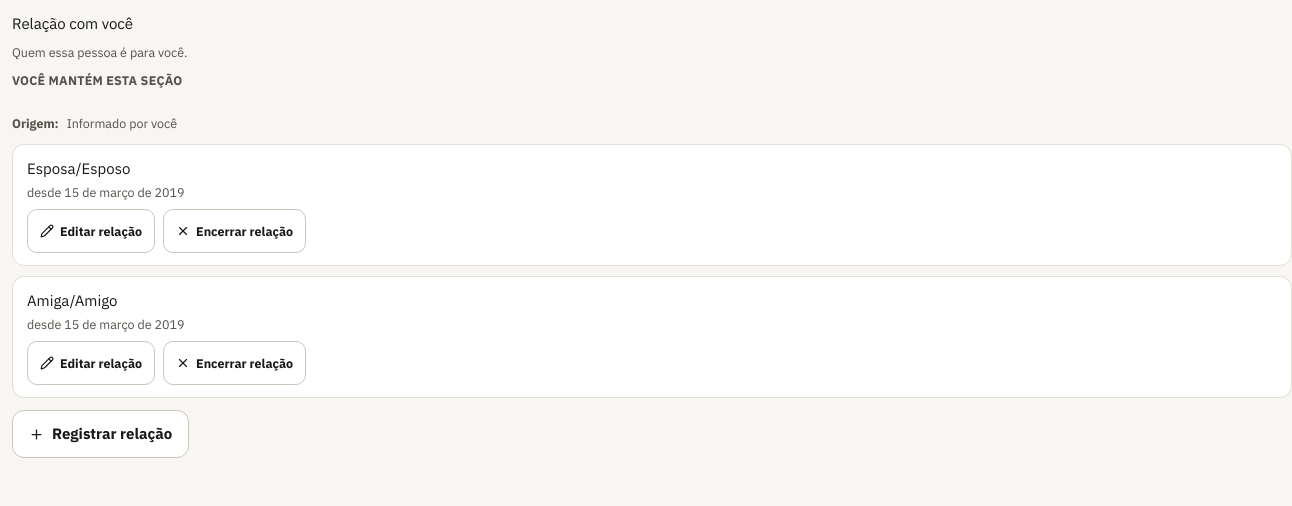
Scenario: RelationshipPanel › keeps each row's outcome on its own row rather than above all of them
Click the button "Encerrar relação" below "Esposa/Esposo": [235, 231] box [163, 209, 306, 253]
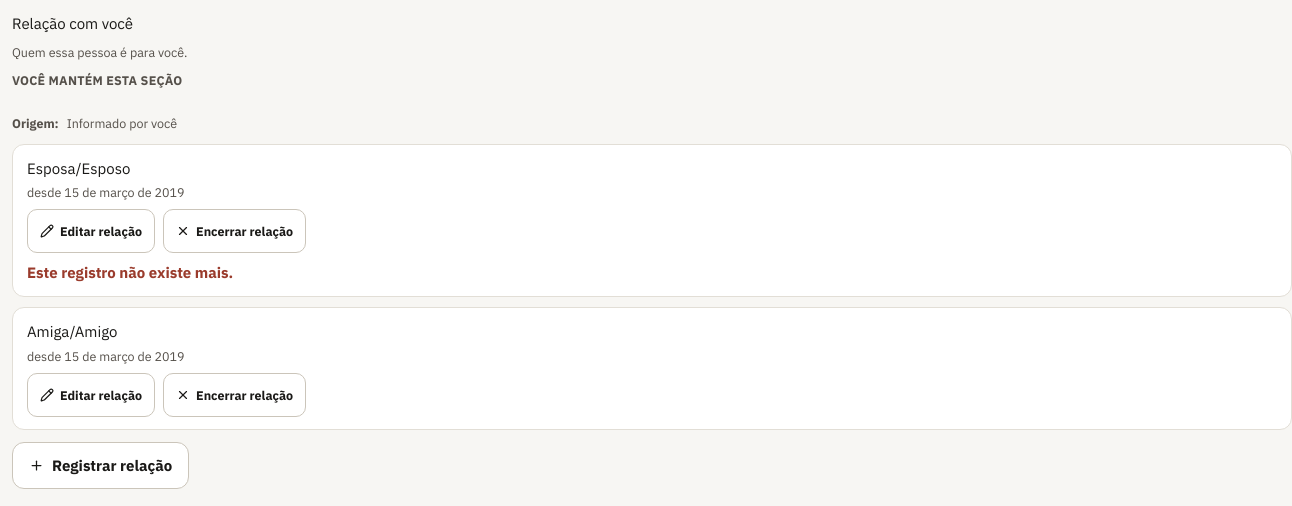
Now the message "Este registro não existe mais." is shown, box [27, 263, 233, 282]
